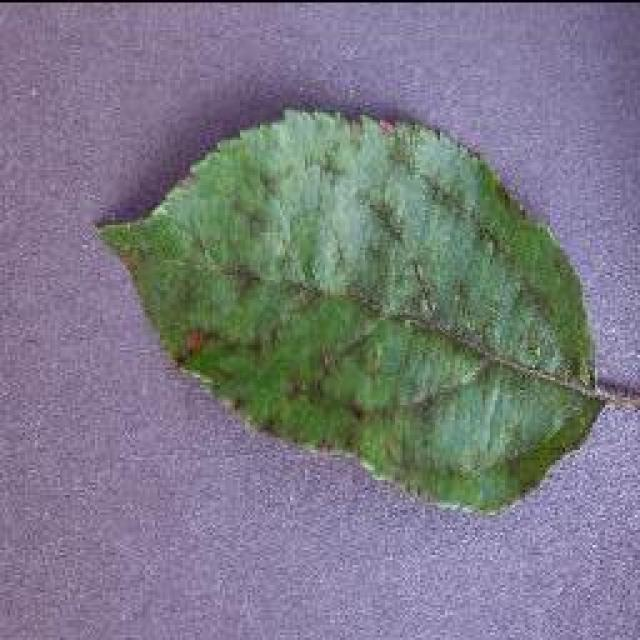apple scab disease: (95, 102, 607, 518)
